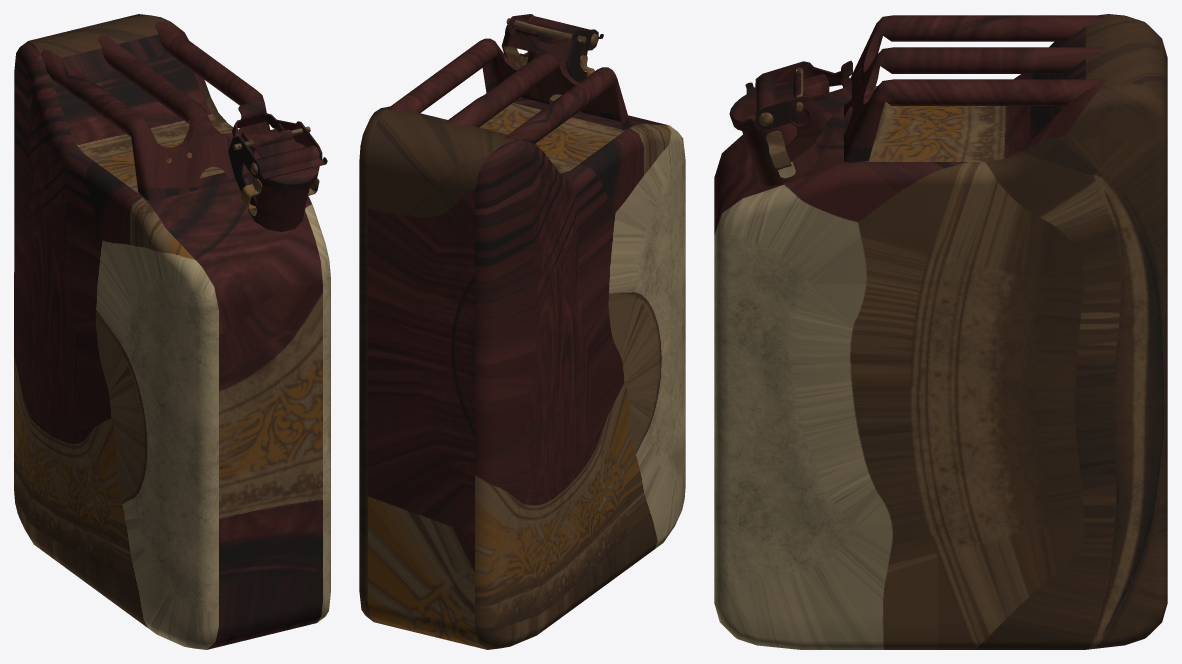
Rendered from Canister.fbx.
3 views of the same model, side by side, from view 1: azimuth 30°, elevation 25°; view 2: azimuth 150°, elevation 25°; view 3: azimuth 270°, elevation 25° (orthographic). The views are drawn at different scales.
Parts seen in each view (by area): view 1: g, g.006, g.005, g.002, g.009, g.008; view 2: g, g.006, g.005, g.002, g.003; view 3: g, g.006, g.005, g.009, g.002, g.010, g.008.
Part boxes in pixels (x1=…): g: x1=14, y1=14, x2=330, y2=649; g.006: x1=41, y1=21, x2=270, y2=200; g.005: x1=228, y1=101, x2=322, y2=205; g.002: x1=253, y1=129, x2=327, y2=179; g.009: x1=248, y1=177, x2=309, y2=231; g.008: x1=253, y1=141, x2=319, y2=191; g: x1=359, y1=96, x2=685, y2=649; g.006: x1=387, y1=38, x2=630, y2=143; g.005: x1=501, y1=14, x2=598, y2=82; g.002: x1=527, y1=16, x2=603, y2=38; g.003: x1=505, y1=18, x2=586, y2=42; g: x1=714, y1=14, x2=1167, y2=649; g.006: x1=844, y1=15, x2=1105, y2=162; g.005: x1=755, y1=60, x2=852, y2=163; g.009: x1=742, y1=122, x2=819, y2=186; g.002: x1=745, y1=72, x2=801, y2=124; g.010: x1=765, y1=131, x2=795, y2=178; g.008: x1=729, y1=82, x2=805, y2=131.
Size of the model in its own units: 68.26 by 200 by 145.
